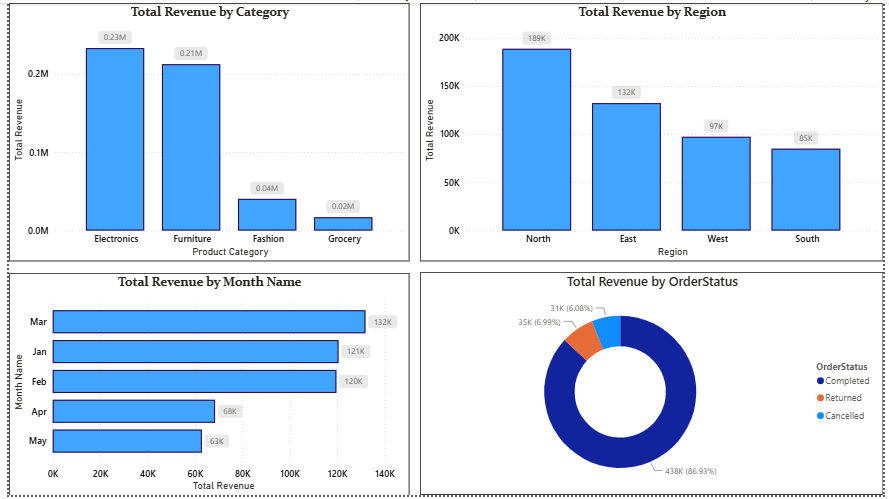

The dashboard page shown, as its layout file describes it:
{"tool":"powerbi","page":{"name":"Dashboard1","canvas":[1280,720],"ordinal":2},"visuals":[{"type":"clusteredColumnChart","fields":{"Y":["Measures Table.Total Revenue"],"Category":["Retail Sales Data.Category"]},"box":[0,0,586,378],"z":0},{"type":"clusteredColumnChart","fields":{"Y":["Measures Table.Total Revenue"],"Category":["Retail Sales Data.Region"]},"box":[602,0,678,378],"z":1000},{"type":"clusteredBarChart","fields":{"Y":["Measures Table.Total Revenue"],"Category":["Date Table.Month Name"]},"box":[0,394.4,585.6,325.6],"z":2000},{"type":"donutChart","fields":{"Category":["Retail Sales Data.OrderStatus"],"Y":["Measures Table.Total Revenue"]},"box":[602,394,678,326],"z":3000}]}

Visuals, with their boxes in screenshot pixels (x1, y1, x2, y2), scaled from the page's 1280x720 canvas onto the 889x499 screenshot:
clusteredColumnChart - Measures Table.Total Revenue x Retail Sales Data.Category: 0, 0, 407, 262
clusteredColumnChart - Measures Table.Total Revenue x Retail Sales Data.Region: 418, 0, 888, 262
clusteredBarChart - Measures Table.Total Revenue x Date Table.Month Name: 0, 273, 407, 498
donutChart - Retail Sales Data.OrderStatus x Measures Table.Total Revenue: 418, 273, 888, 498
